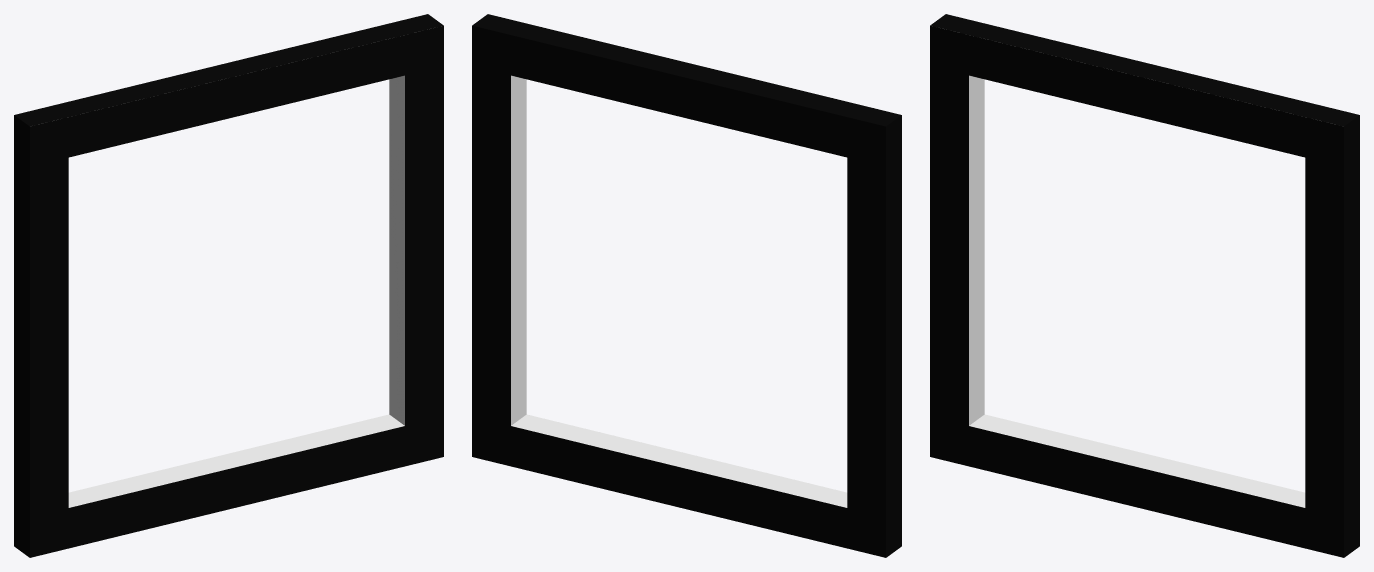
The model's file is Frame.obj.
3 views of the same model, side by side, from view 1: azimuth 30°, elevation 25°; view 2: azimuth 150°, elevation 25°; view 3: azimuth 330°, elevation 25° (orthographic).
Visible parts, largest first — view 1: 立方体; view 2: 立方体; view 3: 立方体.
Part boxes in pixels (x1,y1,x2,y2): 立方体: (14, 14, 443, 557); 立方体: (472, 14, 901, 557); 立方体: (930, 14, 1359, 557).
Size of the model in its own units: 2.69 by 2.68 by 0.1779.
1 material, 1 textured.
